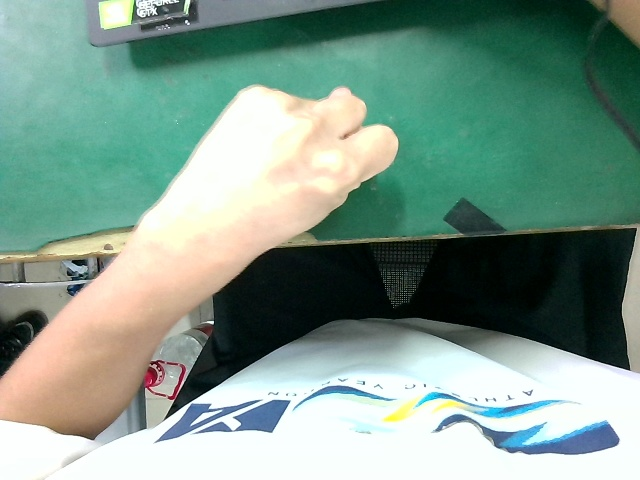stone: (151, 78, 399, 281)
